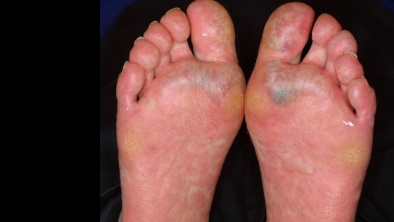SJS-TEN: (99, 0, 254, 222), (240, 0, 386, 222)
